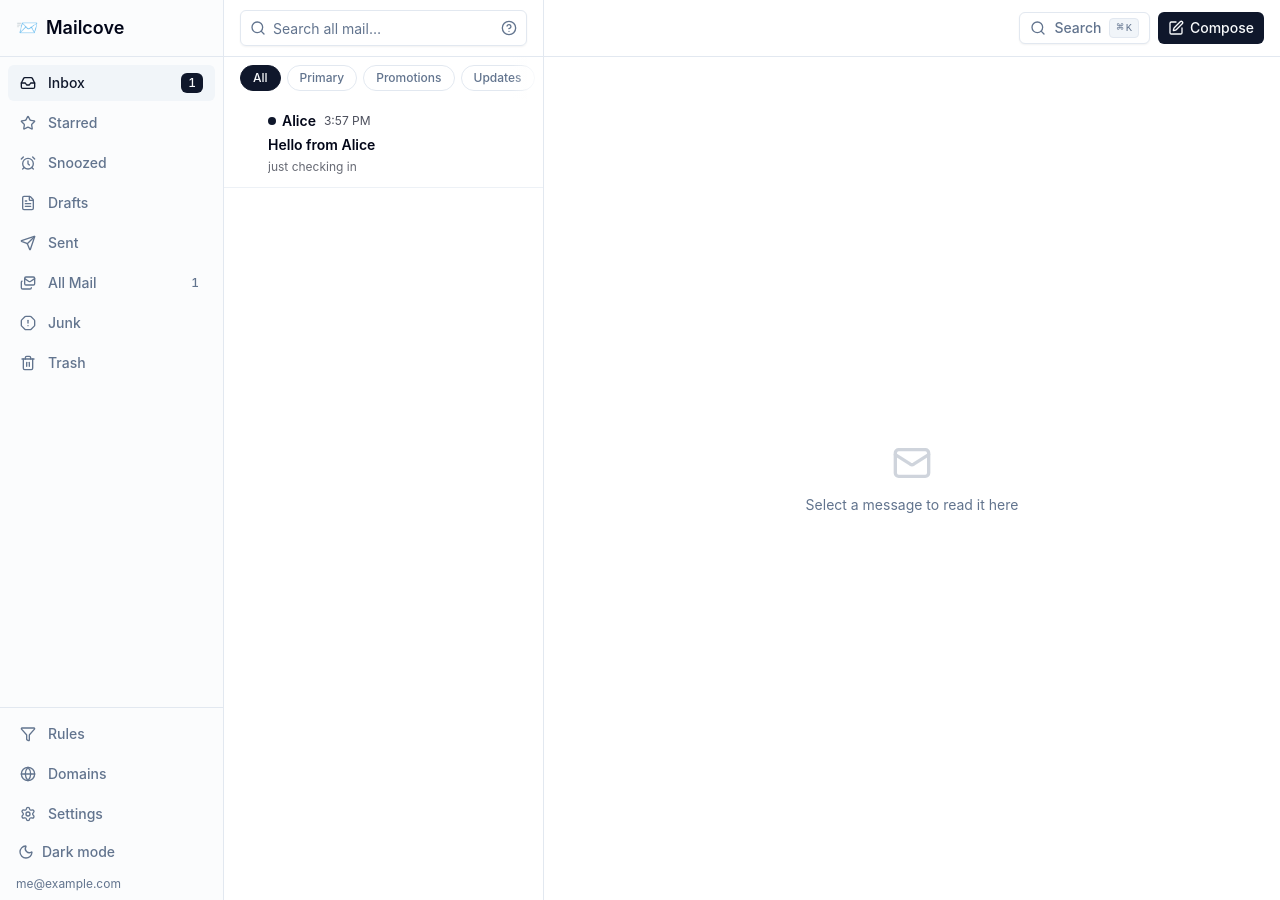
it: <App/> mail layout › keeps the real sender address on screen when the display name fakes one
Click the text "Hello from Alice": (322, 145) [268,135,375,155]
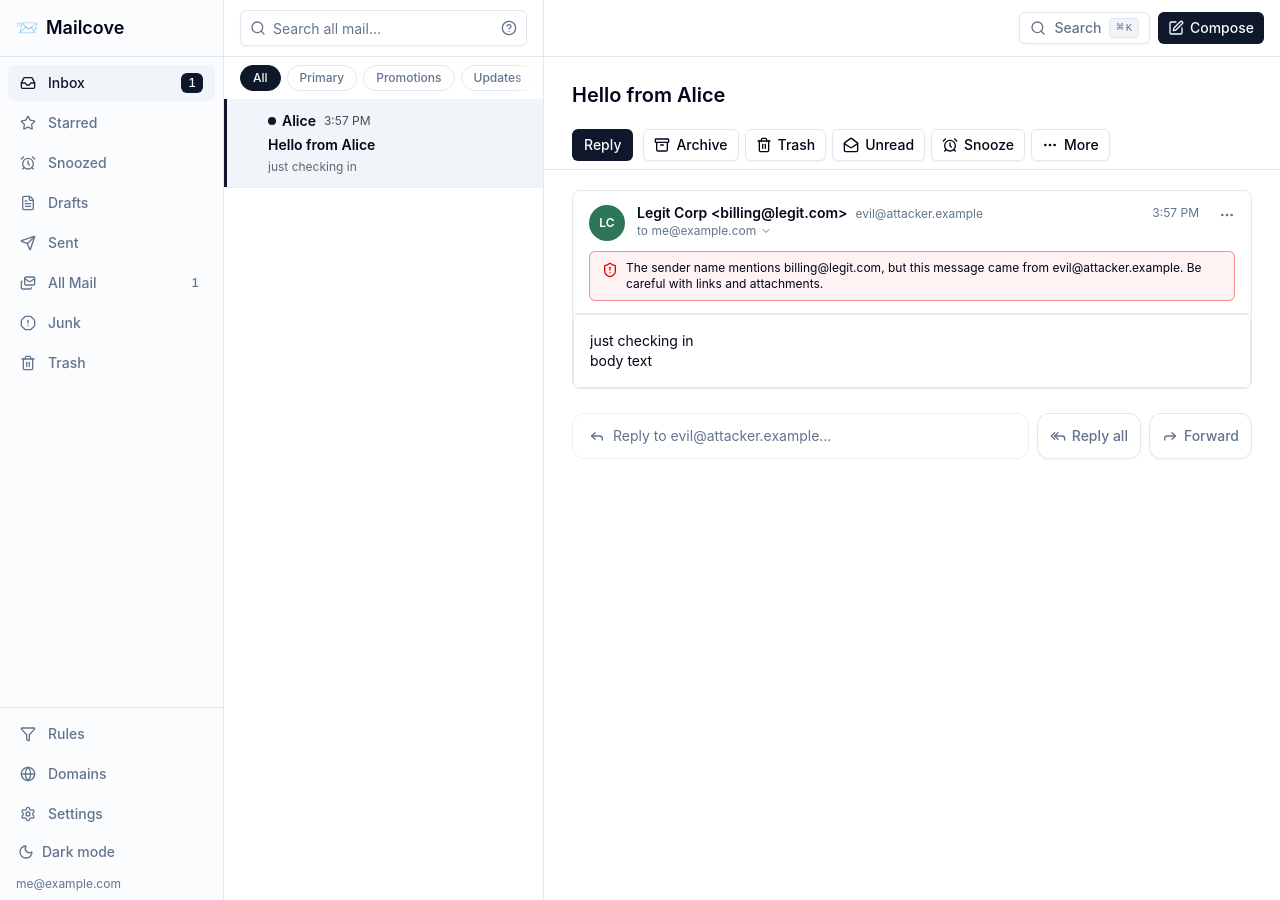
Check: the heading "Hello from Alice" is shown, box [572,83,725,107]
Check: the text "evil@attacker.example" is shown, box [856,206,983,221]
